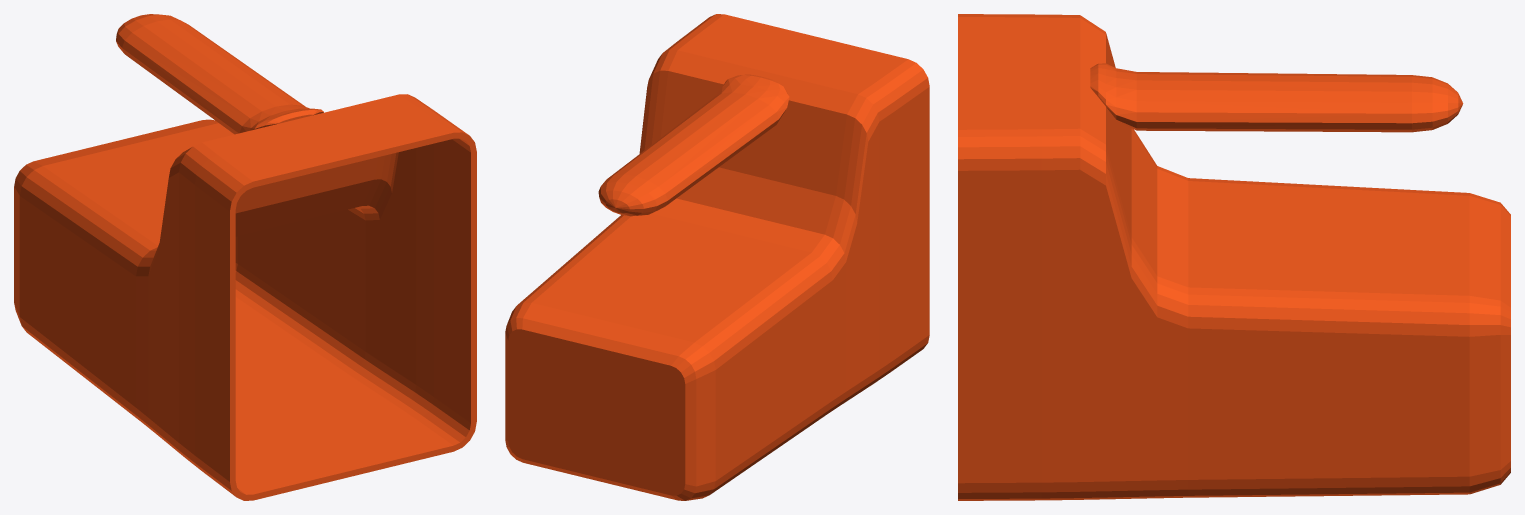
The picture shows the model from 3 angles, left to right: view 1: azimuth 30°, elevation 25°; view 2: azimuth 150°, elevation 25°; view 3: azimuth 270°, elevation 25°; orthographic projection. The views are drawn at different scales.
Parts seen in each view (by area): view 1: Joined_hollow_bailer; view 2: Joined_hollow_bailer; view 3: Joined_hollow_bailer.
Part boxes in pixels (<box>): Joined_hollow_bailer: <box>14,14,476,500</box>; Joined_hollow_bailer: <box>505,14,929,500</box>; Joined_hollow_bailer: <box>958,14,1510,500</box>.
Size of the model in its own units: 0.128 by 0.158 by 0.215.
